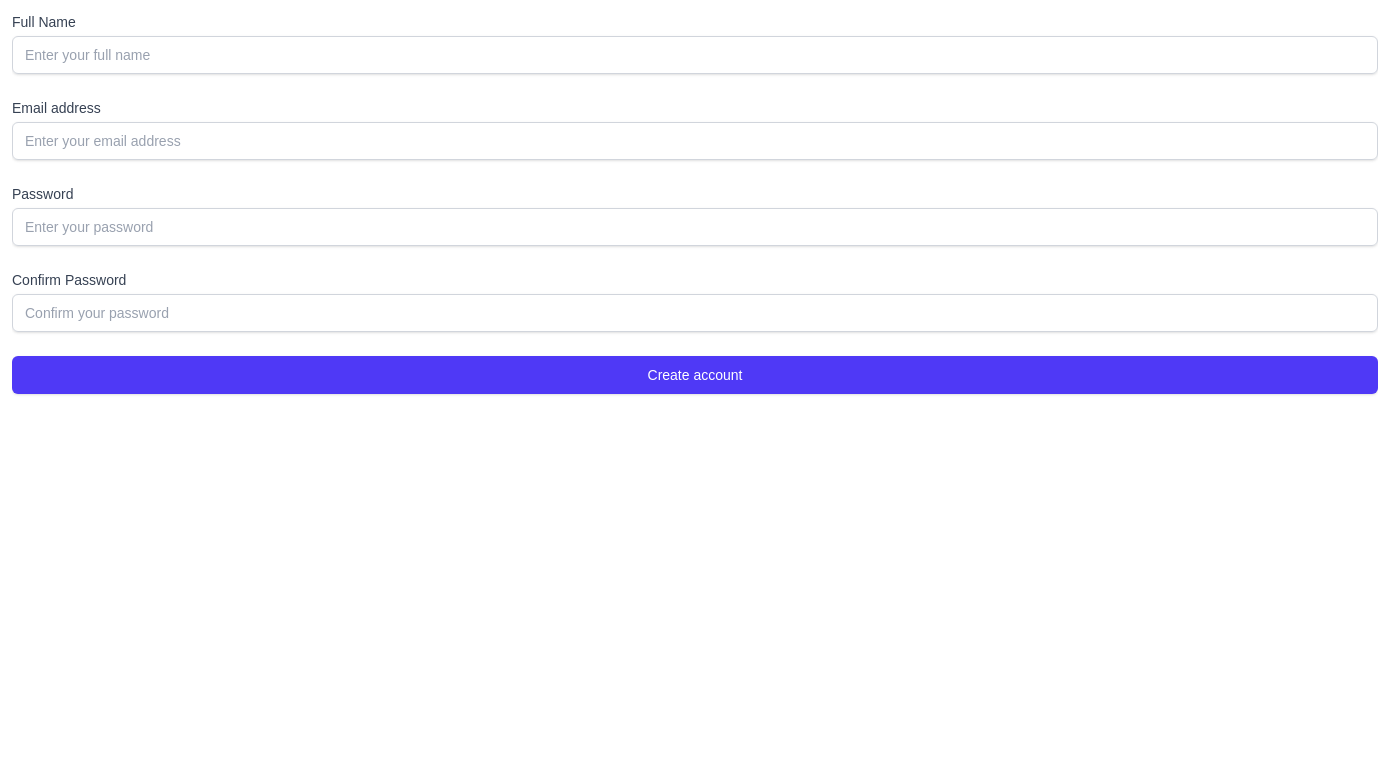
SignupForm › should validate password strength before submission
This screenshot has width=1390, height=780.
Type "Test User" into the field labelled "Full Name". click: (695, 55)
box: [12, 36, 1378, 74]
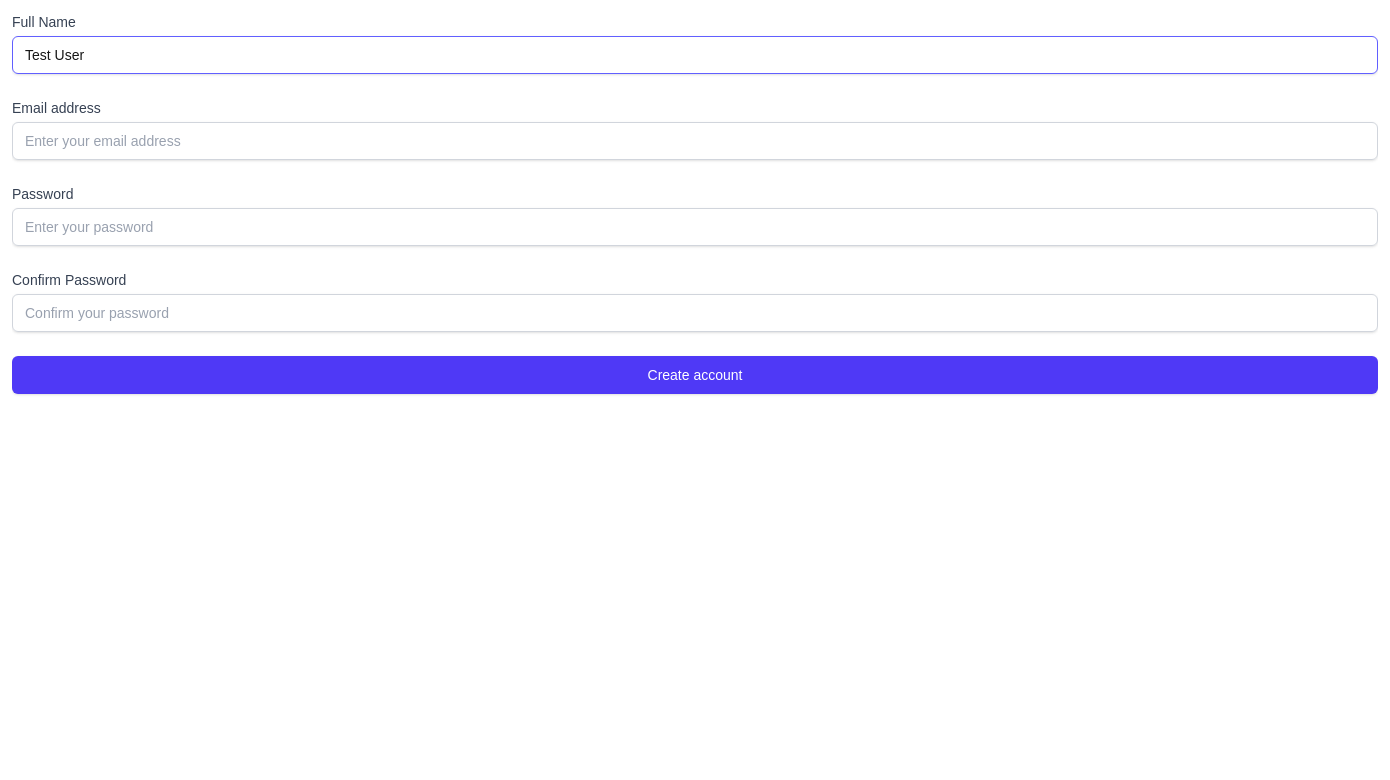
Type "test@example.com" into the field labelled "Email address". click: (695, 141)
box: [12, 122, 1378, 160]
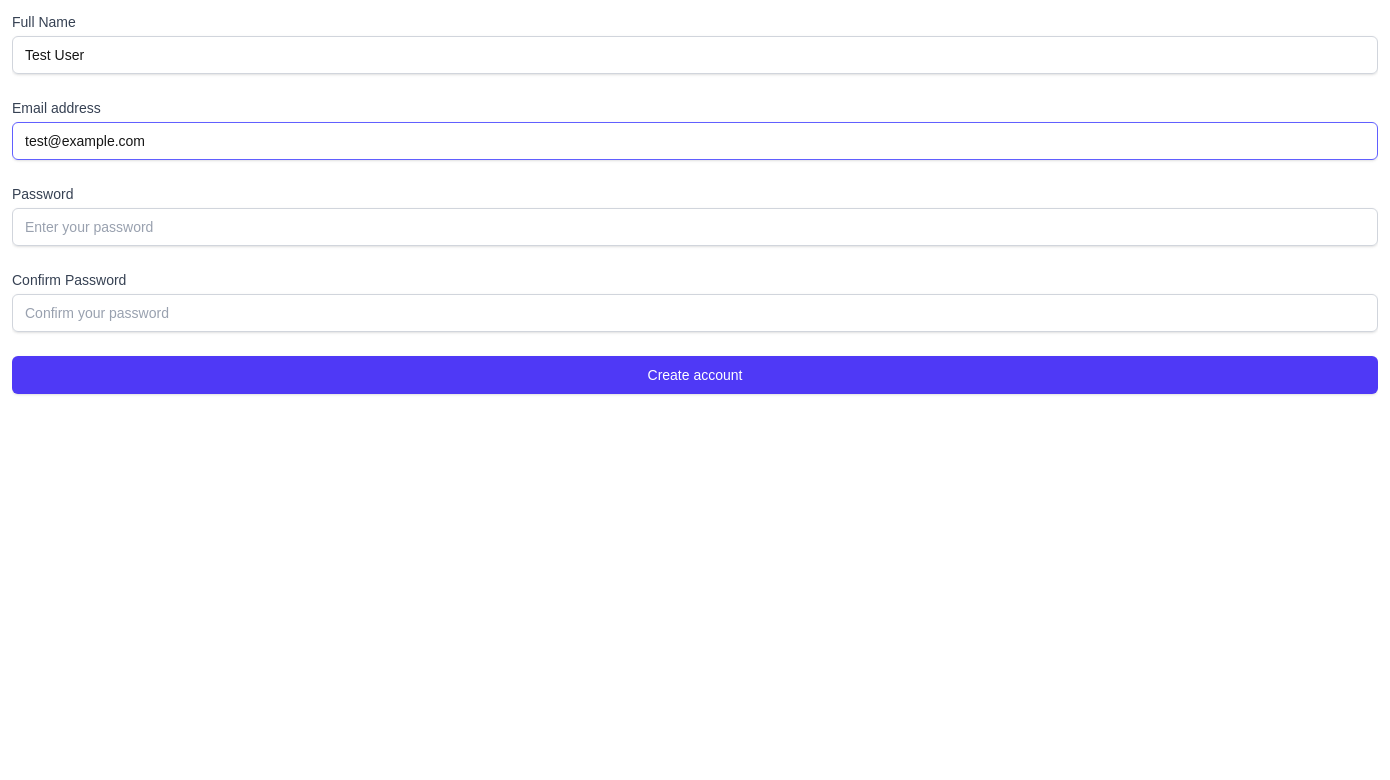
Type "123" into the password field labelled "Password". click: (695, 227)
box: [12, 208, 1378, 246]
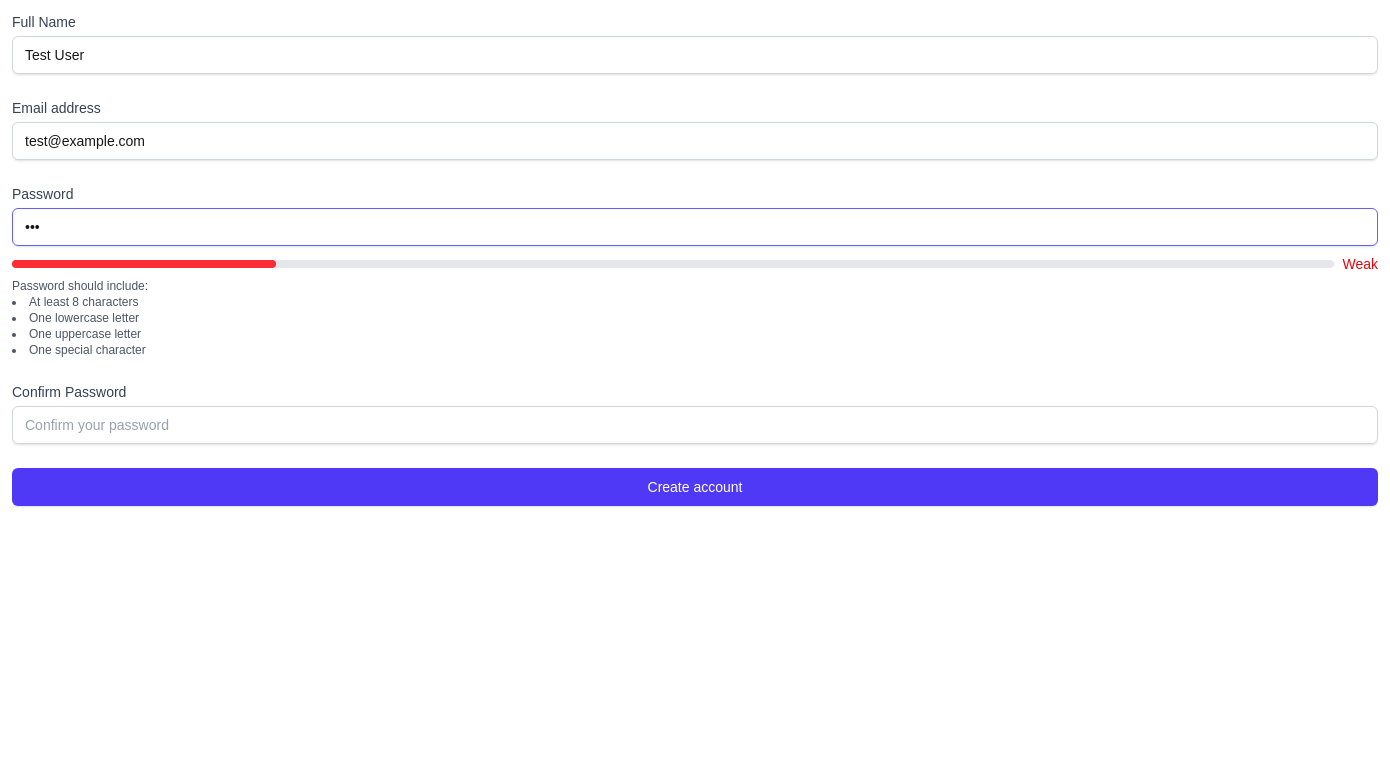
Type "123" into the password field labelled "Confirm Password". click: (695, 425)
box: [12, 406, 1378, 444]
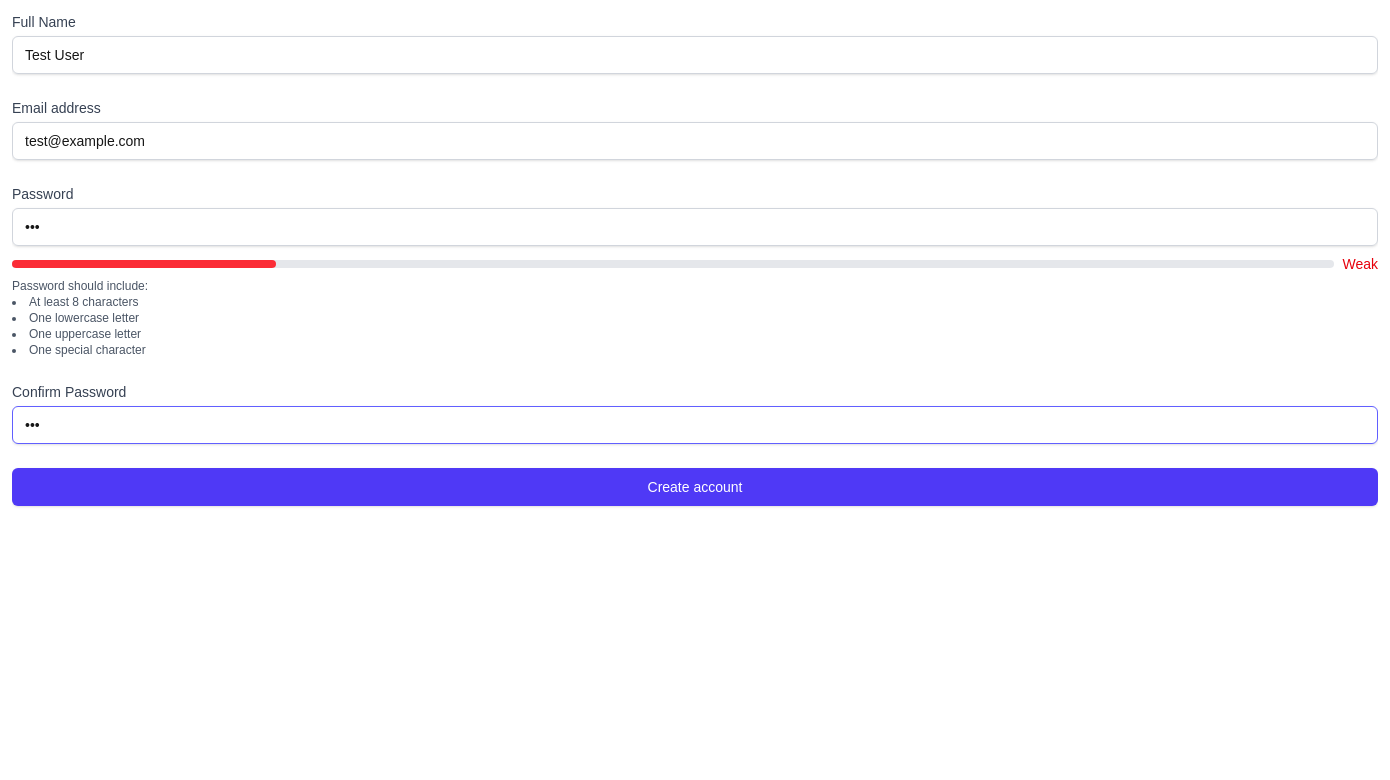
Click the button "Create account". click: (695, 487)
box: [12, 468, 1378, 506]
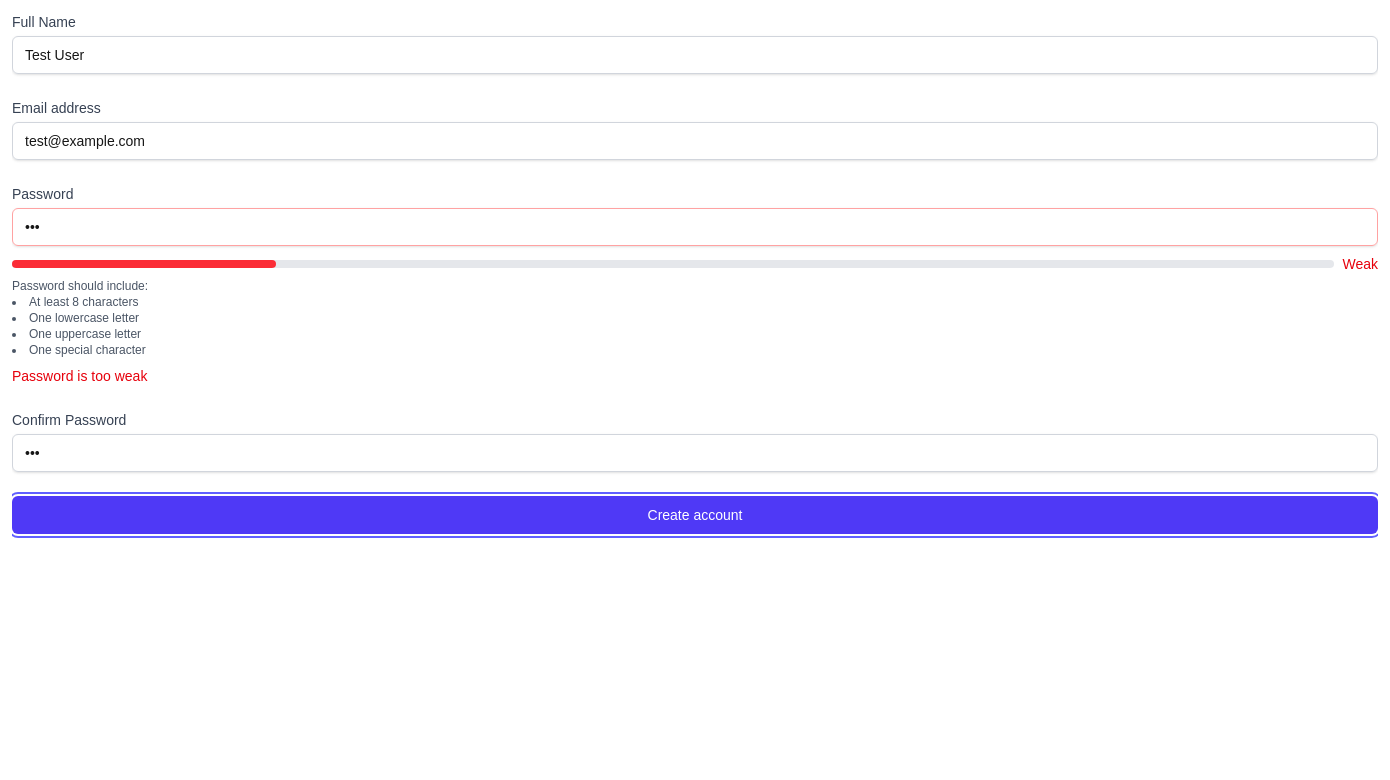
Check: the text "Password is too weak" is shown, box [12, 368, 147, 384]
